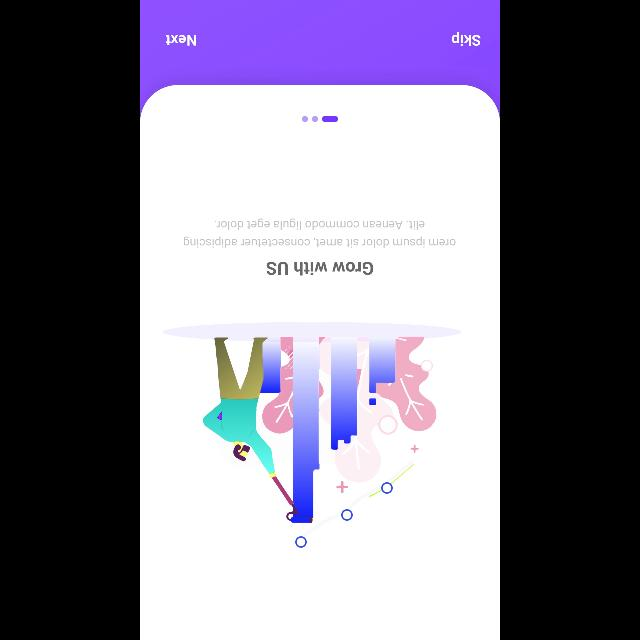image: (163, 322, 461, 548)
pageindicator: (302, 116, 338, 122)
text: (184, 218, 456, 248), (266, 261, 374, 275), (452, 32, 481, 46), (166, 34, 197, 46)
